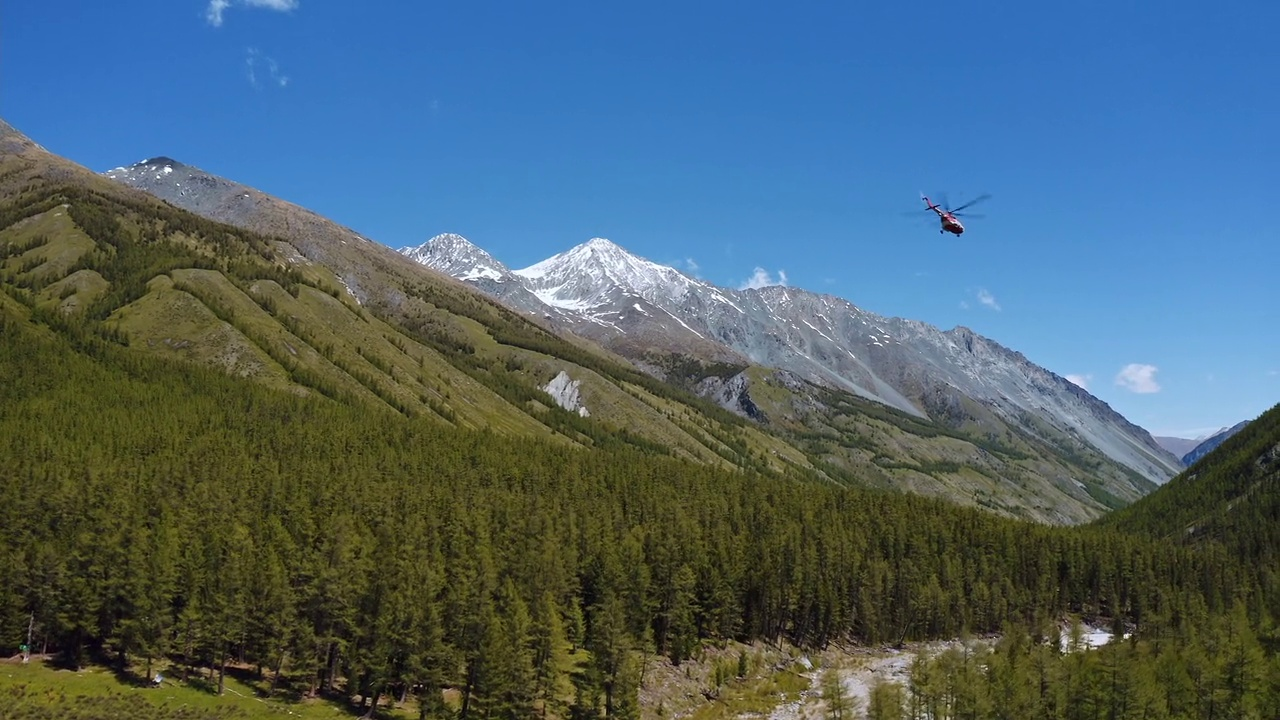heli: (918, 191, 991, 240)
